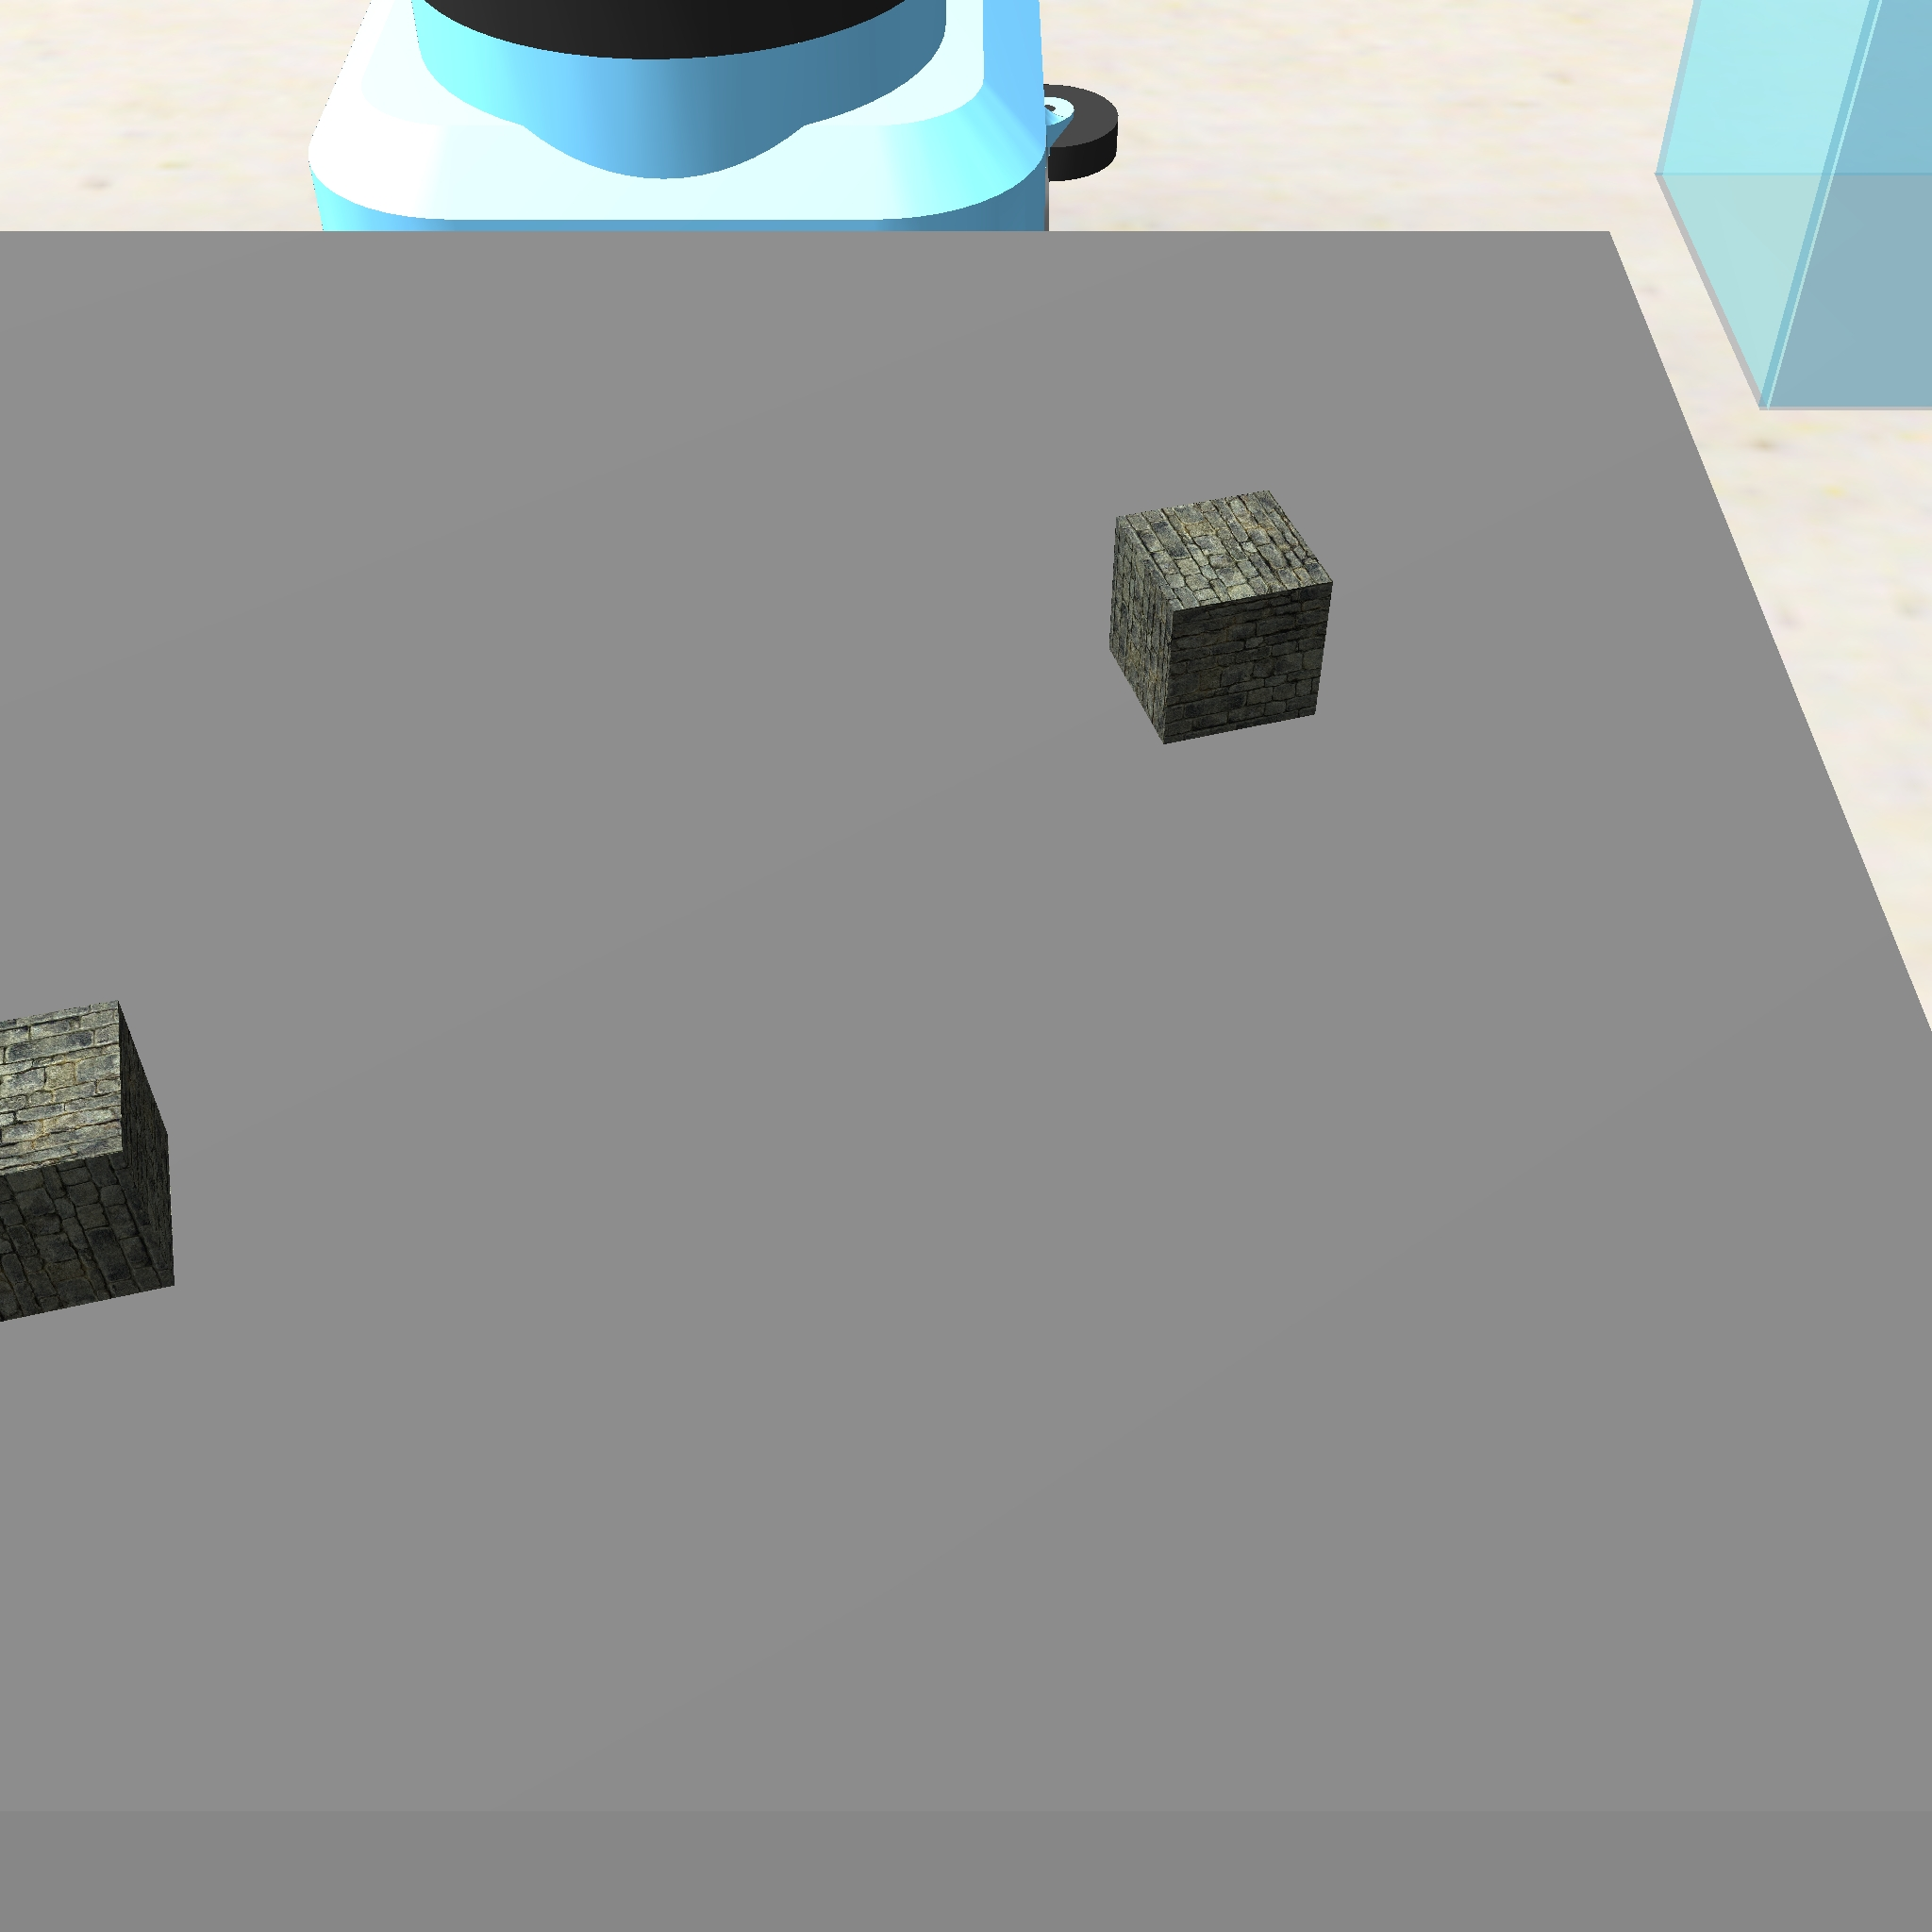cube: (0, 989, 191, 1336), (1104, 479, 1341, 757)
